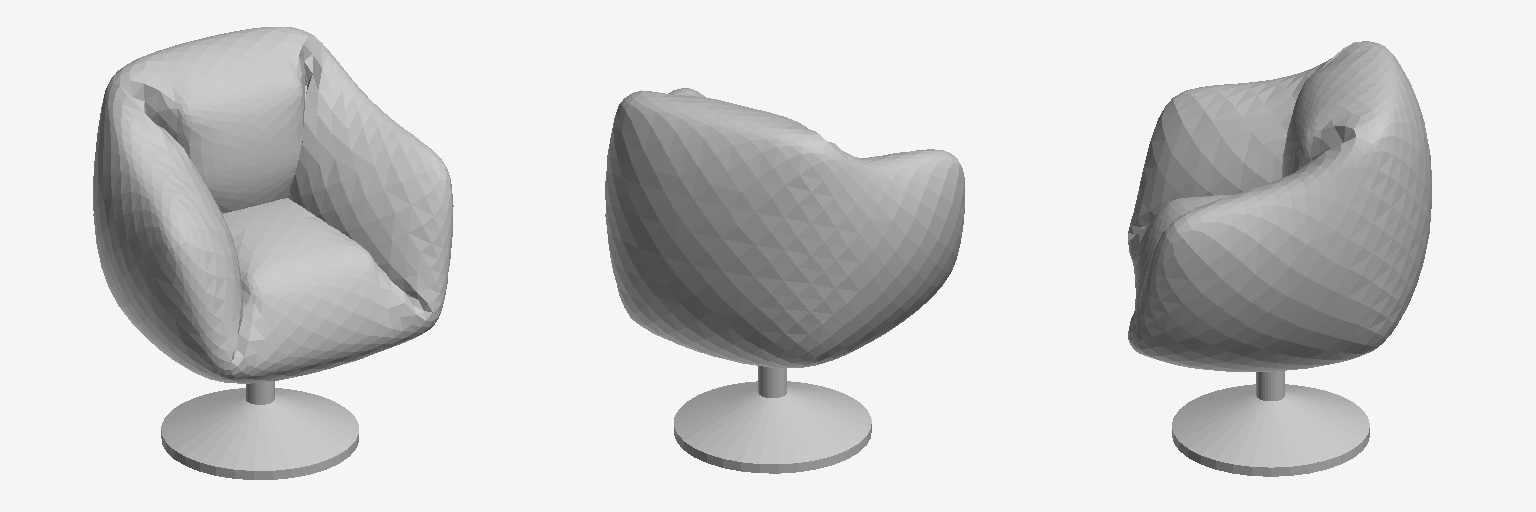
The model's file is puffchair.obj.
The picture shows the model from 3 angles: view 1: azimuth 30°, elevation 25°; view 2: azimuth 150°, elevation 25°; view 3: azimuth 270°, elevation 25°; orthographic projection.
Parts seen in each view (by area): view 1: Cube, Cylinder; view 2: Cube, Cylinder; view 3: Cube, Cylinder.
Boxes of the visible parts, box(x1,y1,x2,y2) form: Cube: box(93, 27, 453, 383); Cylinder: box(161, 381, 358, 479); Cube: box(605, 88, 964, 367); Cylinder: box(674, 366, 871, 473); Cube: box(1128, 41, 1431, 371); Cylinder: box(1172, 371, 1369, 476).
Bounding box in the file's own units: 1.12 × 1.28 × 0.9888.